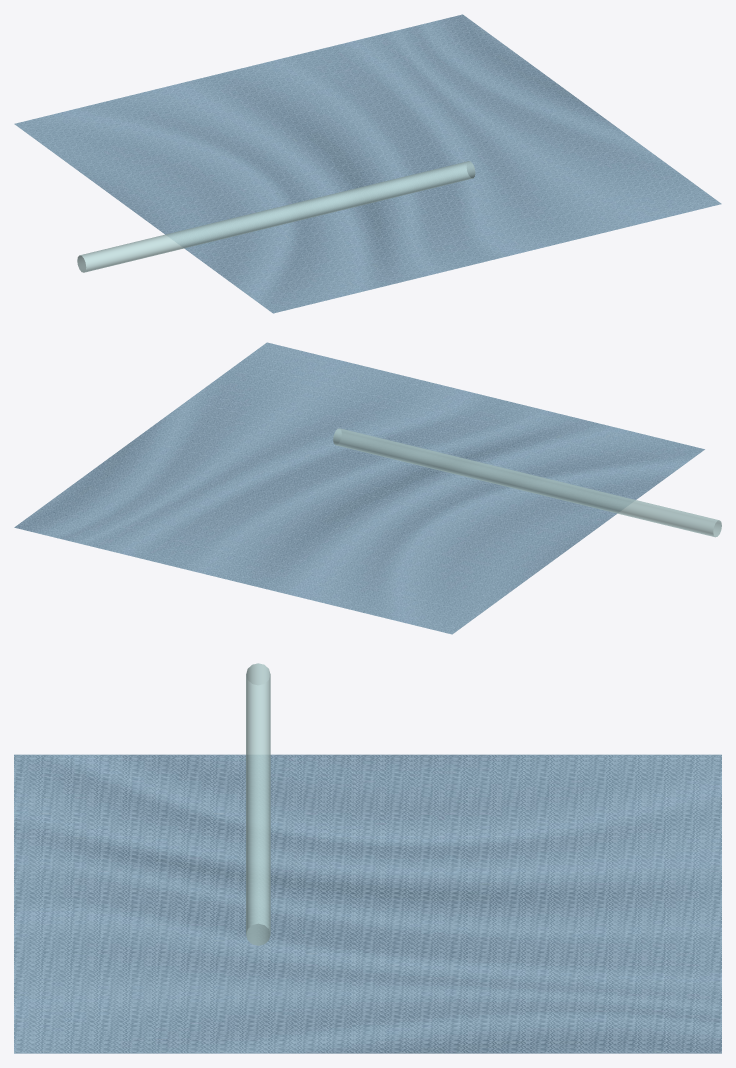
File: glass rod rubbed.fbx
3 renders of one model, top to bottom at view 1: azimuth 30°, elevation 25°; view 2: azimuth 150°, elevation 25°; view 3: azimuth 270°, elevation 25°, orthographic. The views are drawn at different scales.
Visible parts, largest first — view 1: silk1, glass_rod3; view 2: silk1, glass_rod3; view 3: silk1, glass_rod3.
Boxes of the visible parts, x1,y1,x2,y2 form: silk1: (14,14,721,313); glass_rod3: (77,161,475,272); silk1: (14,342,704,634); glass_rod3: (333,428,721,537); silk1: (14,754,721,1053); glass_rod3: (246,663,270,945).
Size of the model in its own units: 108 by 3.21 by 88.29.
2 materials, 1 textured.
